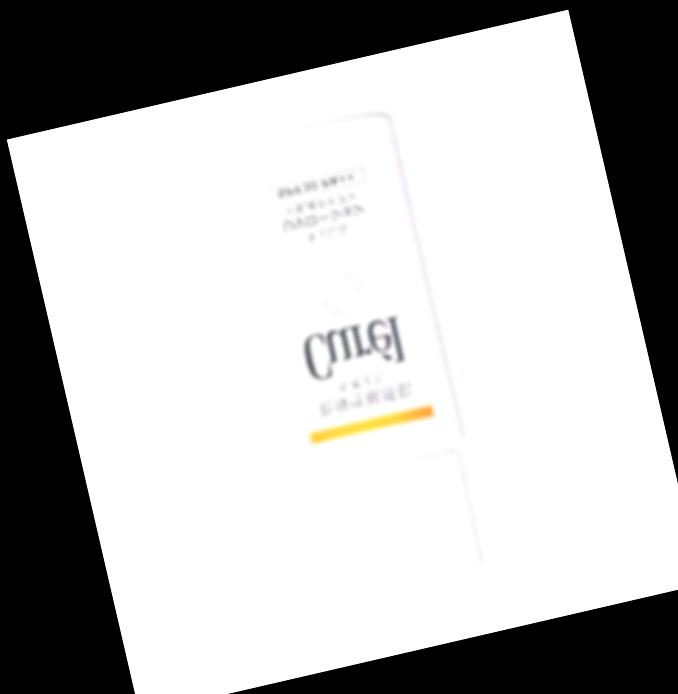cosmetic: (217, 112, 495, 605)
